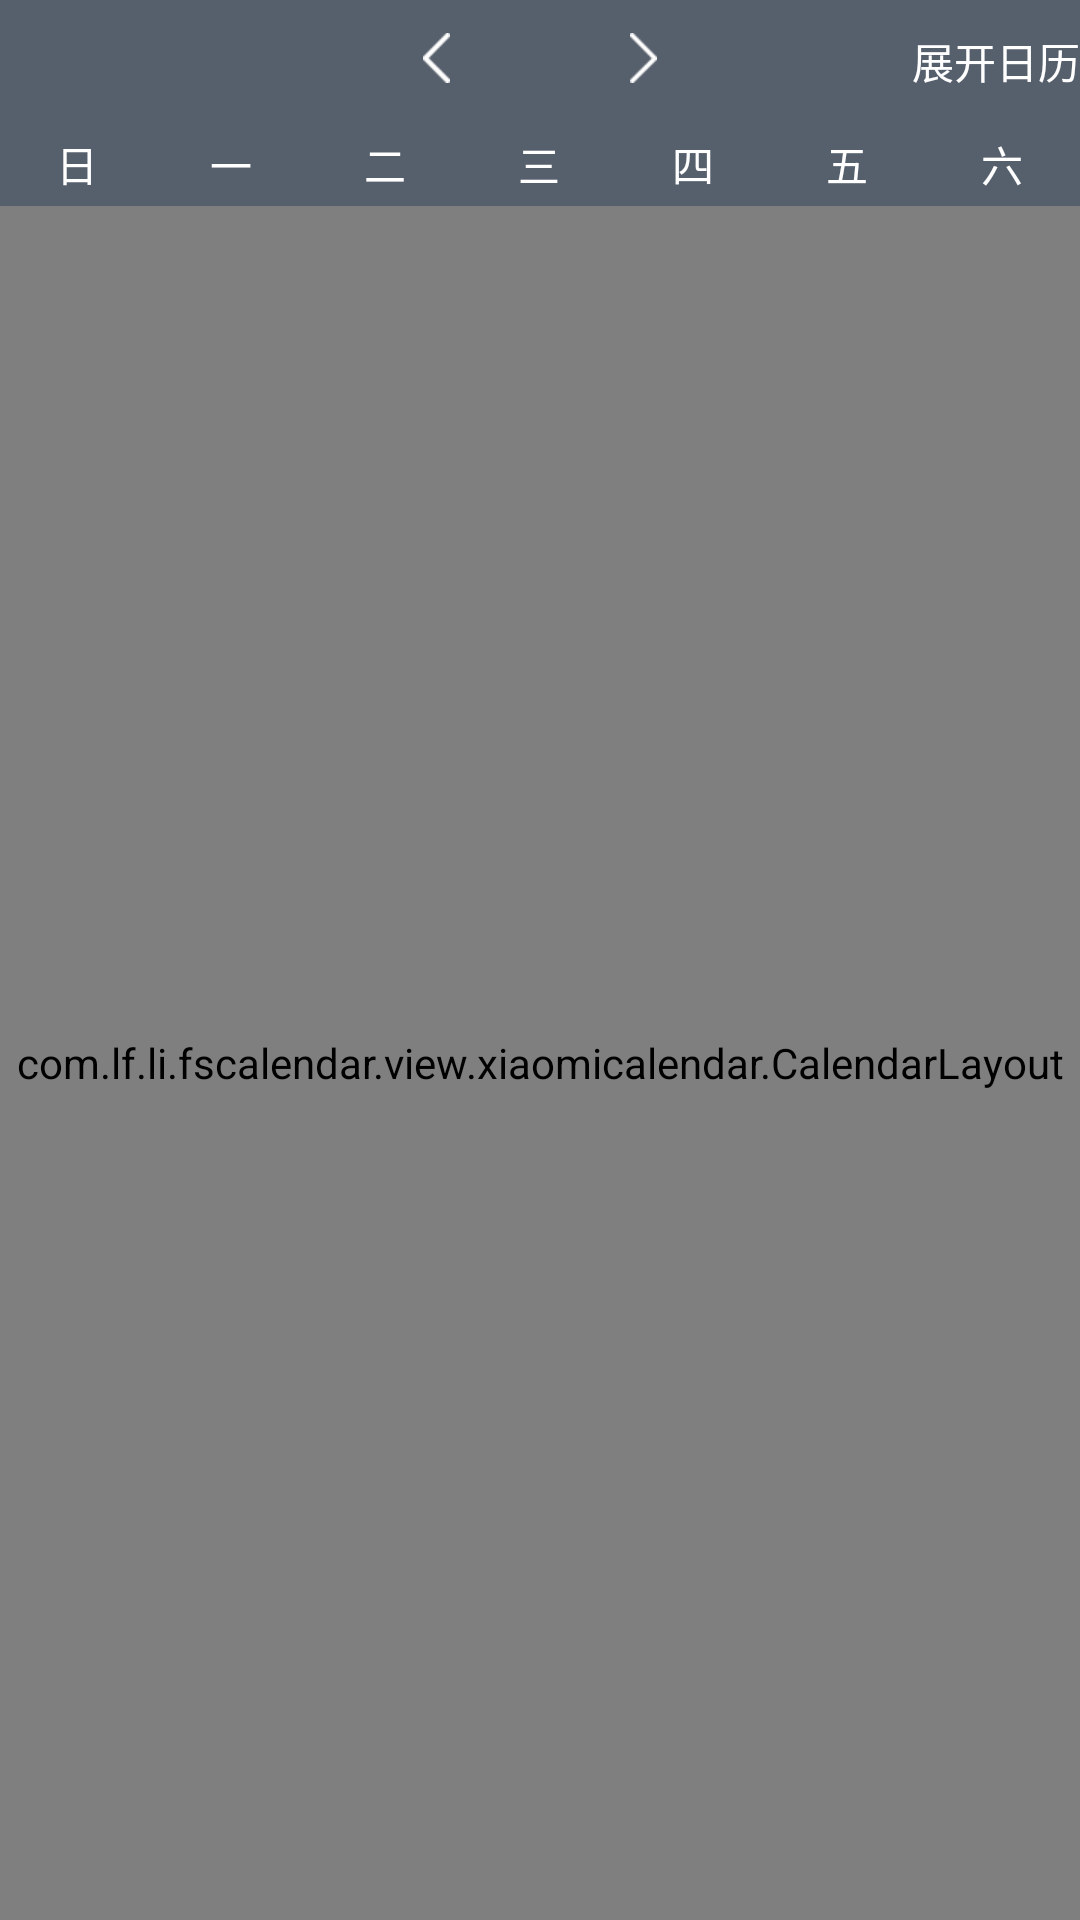

Icon click points for this 1080px x 1920px phone screenshot, format [x,y]:
toleft: [436,58]
toright: [643,58]
